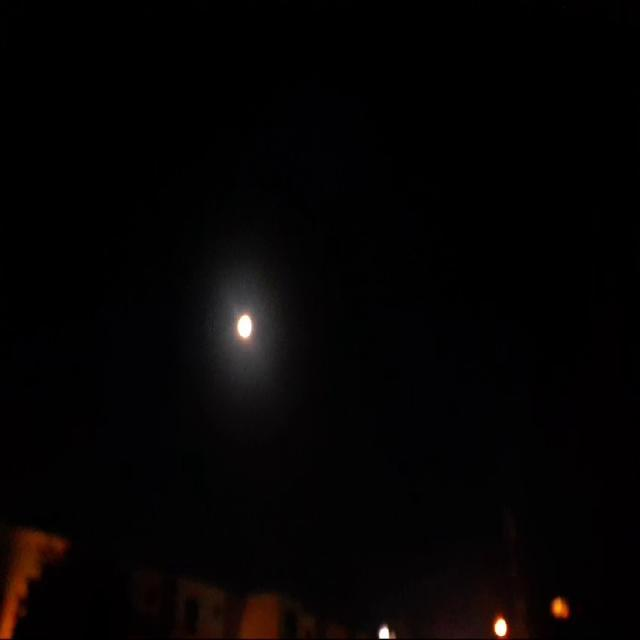moon: (219, 310, 241, 350)
